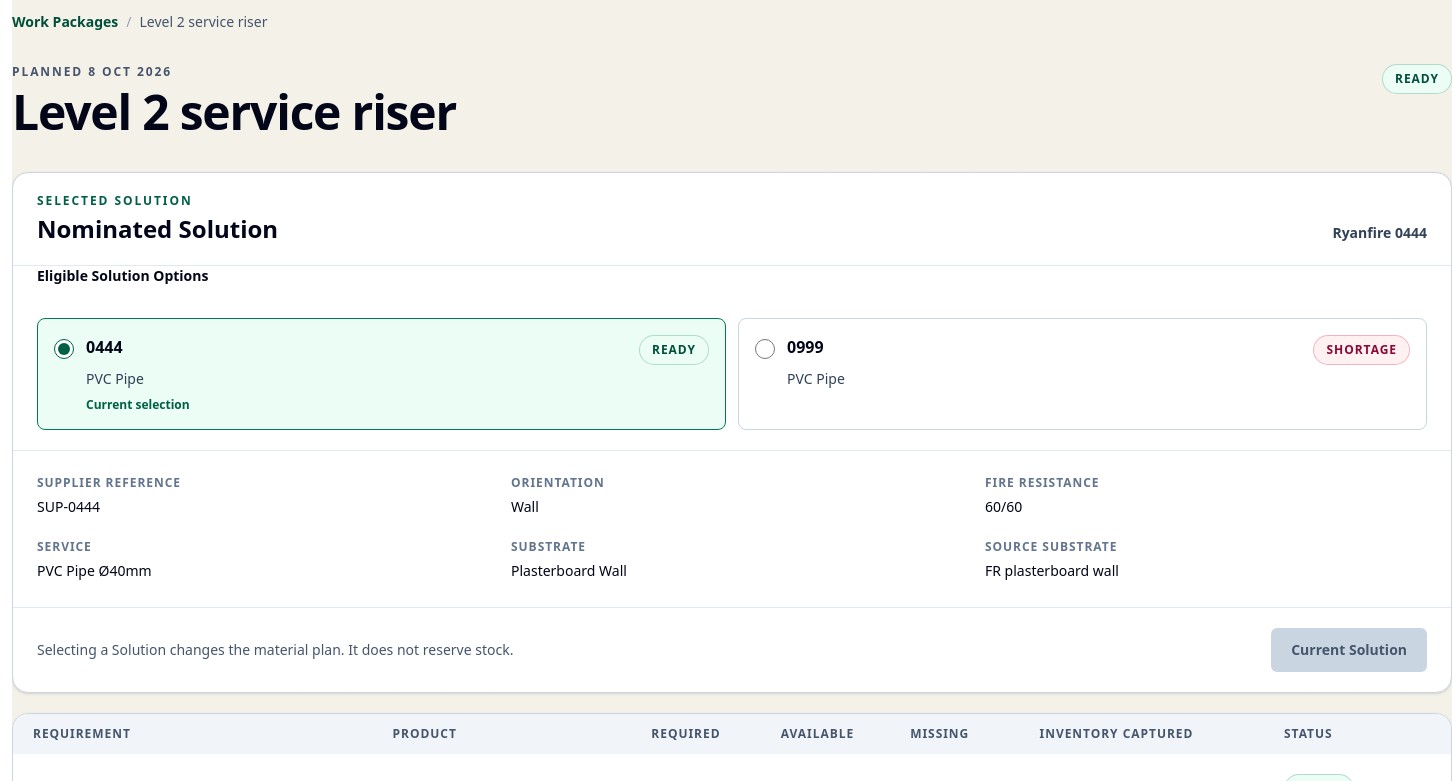
Test: WorkPackage Solution selection › submits only the selected option and expected current option
The width and height of the screenshot is (1452, 781).
Click the radio button labelled "0999 SHORTAGE PVC Pipe". click: (765,349)
box: [755,339,775,359]
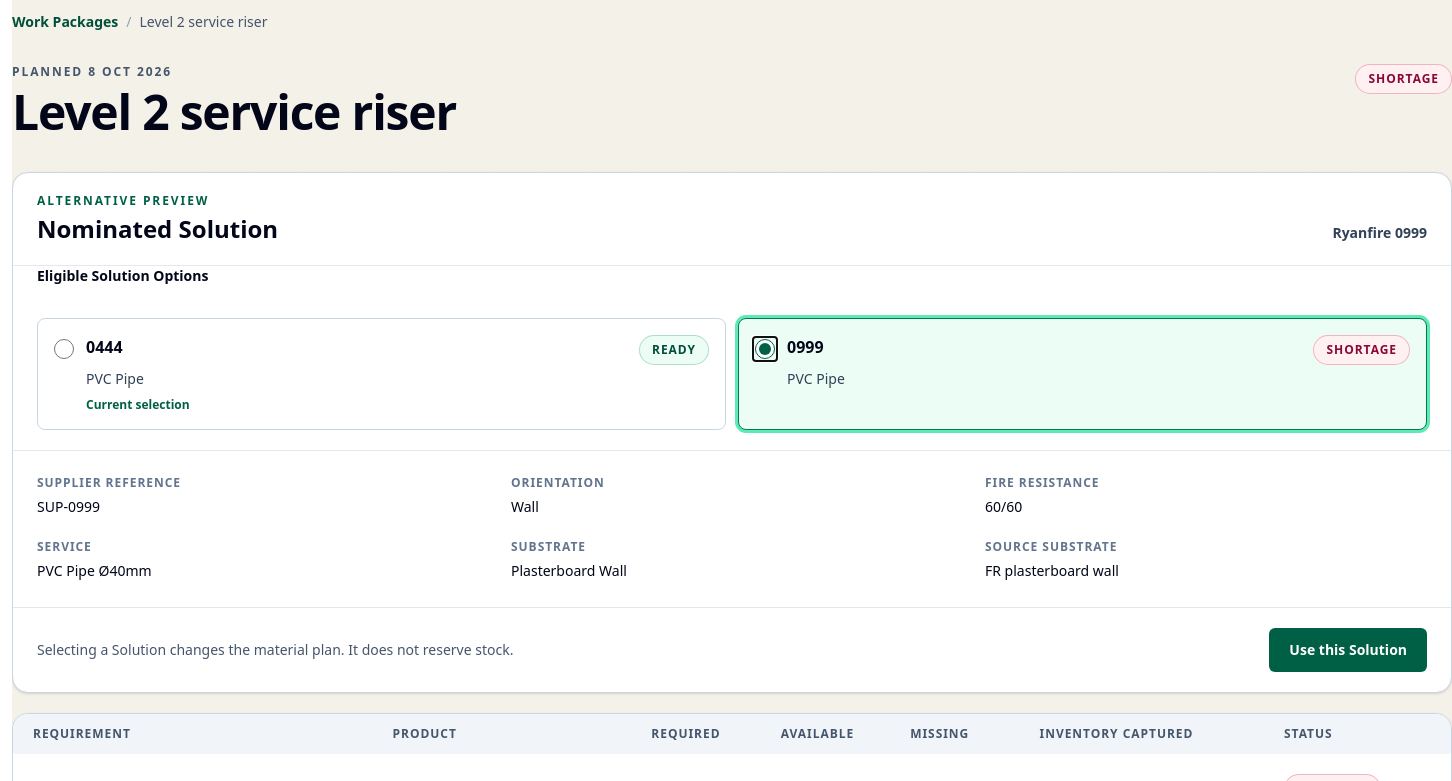
Now the button "Use this Solution" is enabled, box [1269,628,1427,672]
